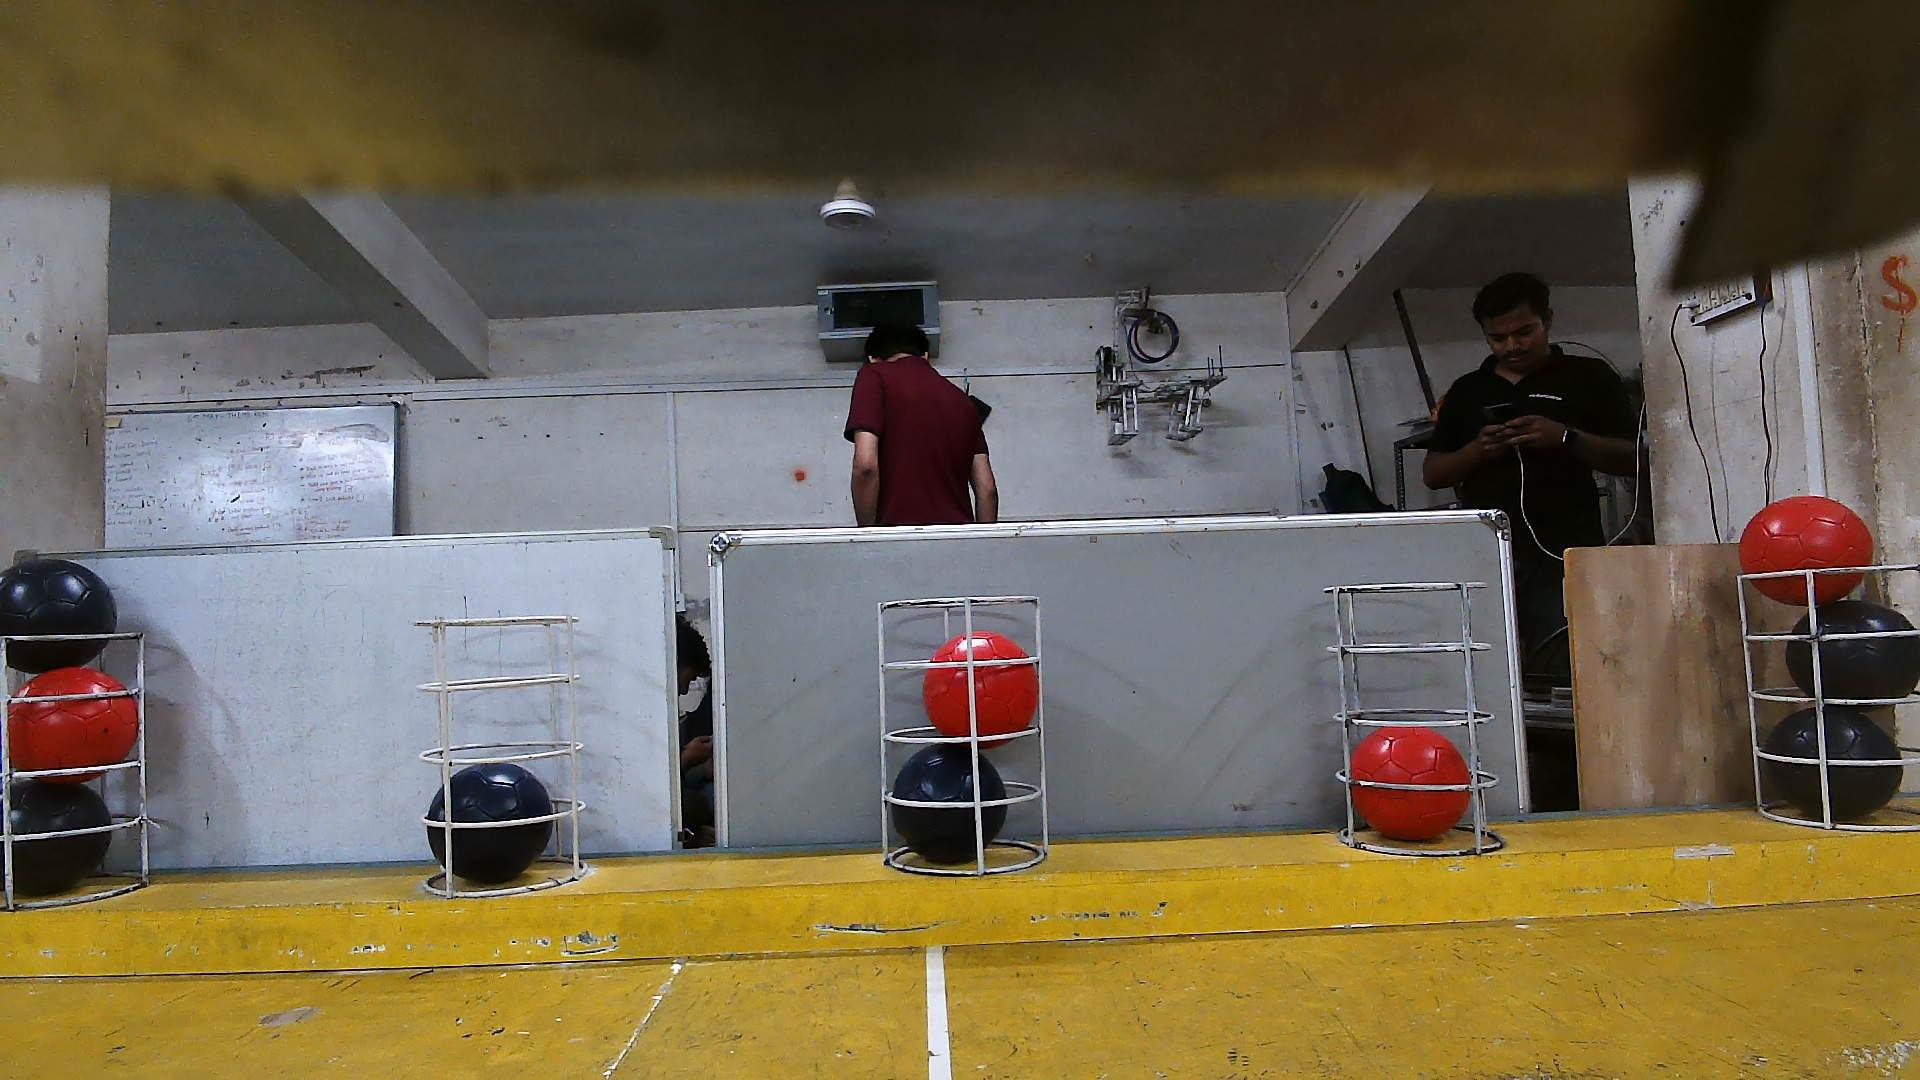dhoka: (1766, 705, 1903, 816), (1787, 599, 1920, 711), (433, 767, 551, 884), (895, 744, 1010, 858), (3, 559, 112, 676), (12, 779, 112, 897)
laale: (8, 667, 136, 783), (1741, 496, 1863, 605), (1346, 729, 1461, 844), (920, 633, 1043, 738)
